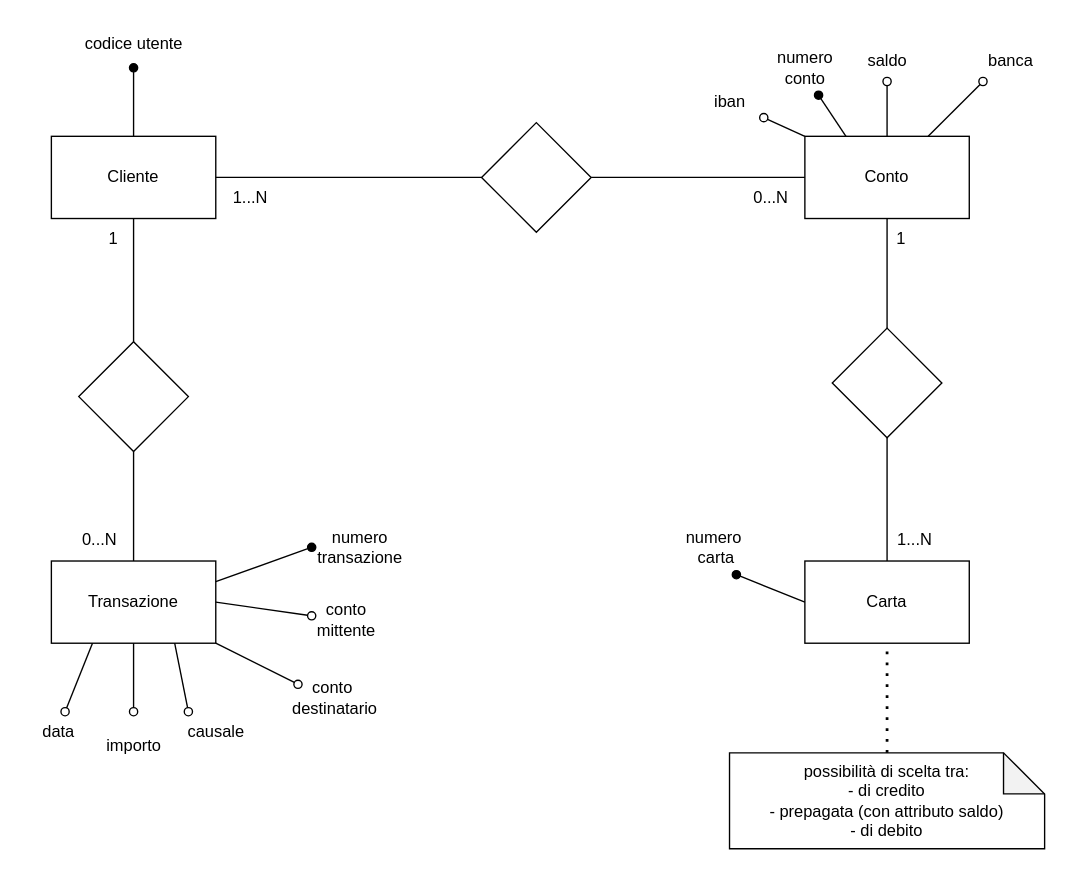
This 1074x873 diagram has some shape labels left out. The box of each missing label's shape, as (x1, y1, x2, y2) in pixels:
apre: (480, 121, 591, 232)
effettua: (77, 340, 188, 451)
ha: (831, 327, 942, 438)
